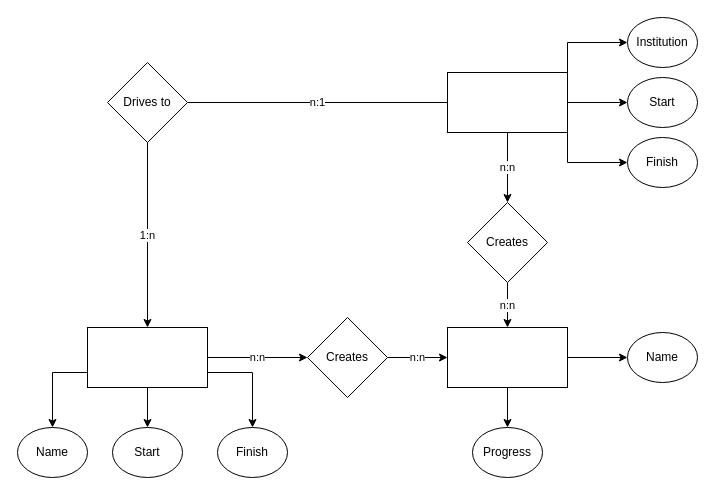
Image size: 715x495. Some labels were removed from this diagram. Here are the shapes that lost their labels. From the top down, the box of each, then its label:
(446, 72, 568, 132): Education
(86, 326, 208, 388): Work Experience
(446, 326, 568, 388): SKILLS
